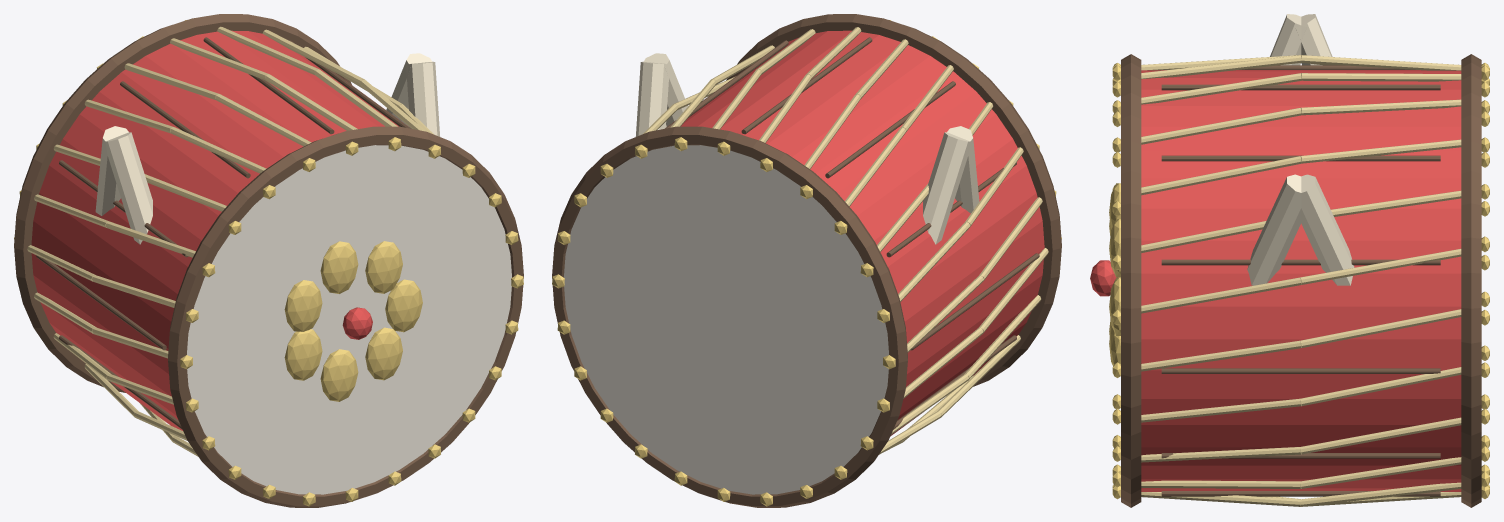
The model's file is local_eisa_odaiko.glb.
3 views of the same model, side by side, from view 1: azimuth 30°, elevation 25°; view 2: azimuth 150°, elevation 25°; view 3: azimuth 270°, elevation 25° (orthographic). The views are drawn at different scales.
Visible parts, largest first — view 1: Large traditional Eisa Okinawa barrel taut drum skin, Large traditional Eisa Okinawa barrel hardwood shell, Large traditional Eisa Okinawa barrel leather head rim, Large traditional Eisa Okinawa barrel leather head rim.001, Eisa tied cross shoulder carrying strap_00, Eisa tied cross shoulder carrying strap_00.001, Large Eisa drum face emblem petal.005, Large Eisa drum face emblem petal.001, Large Eisa drum face emblem petal.002, Large Eisa drum face emblem petal.006, Large Eisa drum face emblem petal.003, Large Eisa drum face emblem petal (+25 smaller); view 2: Large traditional Eisa Okinawa barrel taut drum skin.001, Large traditional Eisa Okinawa barrel hardwood shell, Large traditional Eisa Okinawa barrel leather head rim.001, Large traditional Eisa Okinawa barrel leather head rim, Eisa tied cross shoulder carrying strap_01, Eisa tied cross shoulder carrying strap_01.001, Eisa tied cross shoulder carrying strap_00, Large traditional Eisa Okinawa barrel wood grain.006, Eisa tied cross shoulder carrying strap_00.001, Large traditional Eisa Okinawa barrel tightening rope_00.012, Large traditional Eisa Okinawa barrel tightening rope_01.010, Large traditional Eisa Okinawa barrel tightening rope_00.013 (+17 smaller); view 3: Large traditional Eisa Okinawa barrel hardwood shell, Large traditional Eisa Okinawa barrel leather head rim.001, Large traditional Eisa Okinawa barrel leather head rim, Eisa tied cross shoulder carrying strap_00.001, Eisa tied cross shoulder carrying strap_01.001, Large traditional Eisa Okinawa barrel wood grain, Large traditional Eisa Okinawa barrel wood grain.003, Large traditional Eisa Okinawa barrel wood grain.002, Large traditional Eisa Okinawa barrel tightening rope_01, Large traditional Eisa Okinawa barrel tightening rope_00.003, Large traditional Eisa Okinawa barrel tightening rope_00.004, Large traditional Eisa Okinawa barrel tightening rope_01.020 (+29 smaller).
Boxes of the visible parts, <box> form: Large traditional Eisa Okinawa barrel taut drum skin: <box>187,145,511,494</box>; Large traditional Eisa Okinawa barrel hardwood shell: <box>31,30,402,430</box>; Large traditional Eisa Okinawa barrel leather head rim: <box>168,126,523,507</box>; Large traditional Eisa Okinawa barrel leather head rim.001: <box>14,14,351,392</box>; Eisa tied cross shoulder carrying strap_00: <box>105,132,152,244</box>; Eisa tied cross shoulder carrying strap_00.001: <box>406,61,440,136</box>; Large Eisa drum face emblem petal.005: <box>320,349,358,401</box>; Large Eisa drum face emblem petal.001: <box>365,241,402,293</box>; Large Eisa drum face emblem petal.002: <box>320,241,358,293</box>; Large Eisa drum face emblem petal.006: <box>365,327,402,380</box>; Large Eisa drum face emblem petal.003: <box>284,280,322,331</box>; Large Eisa drum face emblem petal: <box>385,279,422,332</box>; Large traditional Eisa Okinawa barrel taut drum skin.001: <box>564,145,888,494</box>; Large traditional Eisa Okinawa barrel hardwood shell: <box>673,30,1044,436</box>; Large traditional Eisa Okinawa barrel leather head rim.001: <box>552,126,907,507</box>; Large traditional Eisa Okinawa barrel leather head rim: <box>726,14,1061,386</box>; Eisa tied cross shoulder carrying strap_01: <box>923,132,970,244</box>; Eisa tied cross shoulder carrying strap_01.001: <box>635,61,669,136</box>; Eisa tied cross shoulder carrying strap_00: <box>947,126,979,213</box>; Large traditional Eisa Okinawa barrel wood grain.006: <box>911,253,1039,350</box>; Eisa tied cross shoulder carrying strap_00.001: <box>643,53,687,127</box>; Large traditional Eisa Okinawa barrel tightening rope_00.012: <box>964,295,1040,379</box>; Large traditional Eisa Okinawa barrel tightening rope_01.010: <box>907,275,983,352</box>; Large traditional Eisa Okinawa barrel tightening rope_00.013: <box>937,335,1020,416</box>; Large traditional Eisa Okinawa barrel hardwood shell: <box>1141,70,1461,491</box>; Large traditional Eisa Okinawa barrel leather head rim.001: <box>1461,54,1481,507</box>; Large traditional Eisa Okinawa barrel leather head rim: <box>1121,54,1141,507</box>; Eisa tied cross shoulder carrying strap_00.001: <box>1247,174,1301,285</box>; Eisa tied cross shoulder carrying strap_01.001: <box>1301,174,1354,285</box>; Large traditional Eisa Okinawa barrel wood grain: <box>1161,368,1440,373</box>; Large traditional Eisa Okinawa barrel wood grain.003: <box>1161,84,1440,90</box>; Large traditional Eisa Okinawa barrel wood grain.002: <box>1161,155,1440,161</box>; Large traditional Eisa Okinawa barrel tightening rope_01: <box>1300,309,1461,347</box>; Large traditional Eisa Okinawa barrel tightening rope_00.003: <box>1141,156,1301,195</box>; Large traditional Eisa Okinawa barrel tightening rope_00.004: <box>1141,107,1301,144</box>; Large traditional Eisa Okinawa barrel tightening rope_01.020: <box>1300,417,1461,454</box>.
Size of the model in its own units: 1.94 by 1.95 by 1.71.
